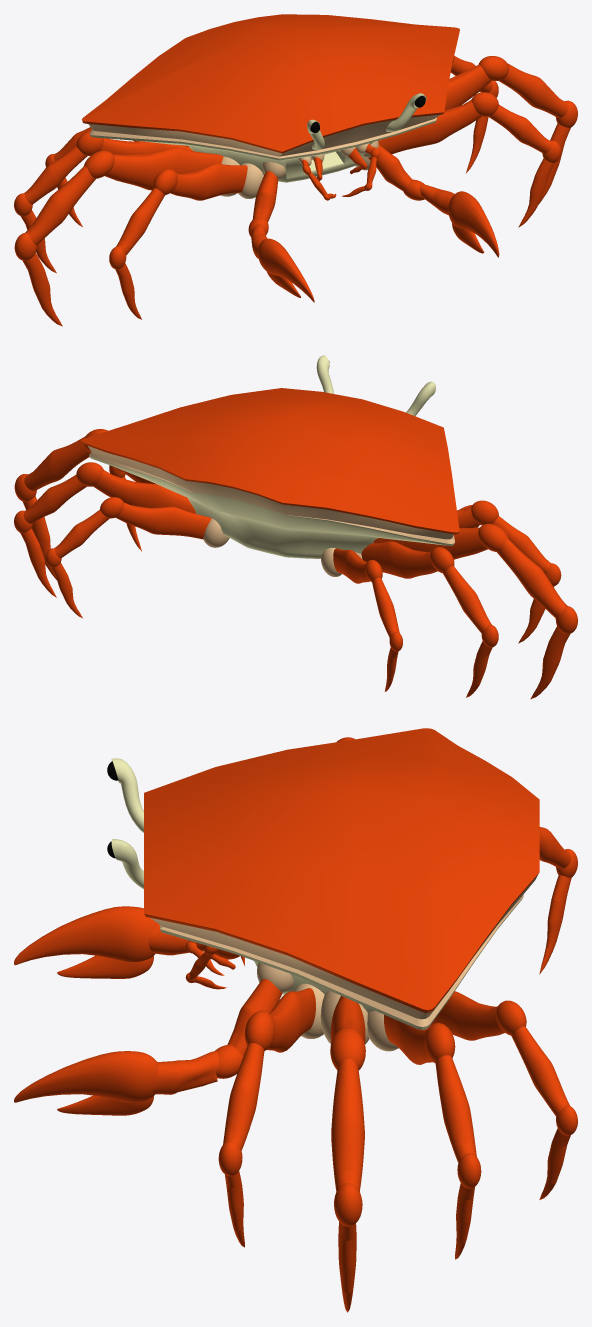
File: uploads_files_4834377_Crab.fbx
3 renders of one model, top to bottom at view 1: azimuth 30°, elevation 25°; view 2: azimuth 150°, elevation 25°; view 3: azimuth 270°, elevation 25°, orthographic. The views are drawn at different scales.
Visible parts, largest first — view 1: Plane, Cylinder, Cylinder.003, Cylinder.015, Cylinder.001, Cylinder.013, Sphere.028, Sphere.044, Cylinder.007, Cylinder.016, Cylinder.004, Cylinder.012 (+18 smaller); view 2: Plane, Cylinder.021, Cylinder.018, Cylinder.001, Cylinder.006, Cylinder.013, Cylinder, Cylinder.019, Cylinder.007, Cylinder.002, Cylinder.022, Cylinder.004 (+13 smaller); view 3: Plane, Sphere.044, Sphere.028, Cylinder.013, Cylinder.019, Cylinder.016, Cylinder.021, Cylinder.015, Cylinder.022, Cylinder.027, Sphere.045, Cylinder.026 (+18 smaller).
Boxes of the visible parts, x1=… form: Plane: x1=82, y1=14, x2=459, y2=182; Cylinder: x1=105, y1=147, x2=223, y2=190; Cylinder.003: x1=170, y1=163, x2=247, y2=200; Cylinder.015: x1=378, y1=100, x2=481, y2=154; Cylinder.001: x1=25, y1=166, x2=95, y2=245; Cylinder.013: x1=498, y1=63, x2=568, y2=117; Sphere.028: x1=448, y1=191, x2=499, y2=257; Sphere.044: x1=258, y1=238, x2=314, y2=302; Cylinder.007: x1=24, y1=146, x2=87, y2=204; Cylinder.016: x1=488, y1=104, x2=551, y2=153; Cylinder.004: x1=116, y1=188, x2=164, y2=255; Cylinder.012: x1=444, y1=64, x2=491, y2=110; Plane: x1=81, y1=388, x2=459, y2=558; Cylinder.021: x1=116, y1=502, x2=211, y2=539; Cylinder.018: x1=93, y1=470, x2=195, y2=513; Cylinder.001: x1=497, y1=539, x2=567, y2=618; Cylinder.006: x1=361, y1=541, x2=437, y2=578; Cylinder.013: x1=24, y1=436, x2=89, y2=490; Cylinder: x1=373, y1=527, x2=487, y2=559; Cylinder.019: x1=23, y1=475, x2=86, y2=523; Cylinder.007: x1=443, y1=566, x2=491, y2=633; Cylinder.002: x1=530, y1=626, x2=570, y2=699; Cylinder.022: x1=54, y1=510, x2=109, y2=558; Cylinder.004: x1=492, y1=516, x2=550, y2=573; Plane: x1=144, y1=728, x2=539, y2=1029; Sphere.044: x1=14, y1=906, x2=157, y2=965; Sphere.028: x1=14, y1=1051, x2=158, y2=1102; Cylinder.013: x1=331, y1=1059, x2=364, y2=1191; Cylinder.019: x1=435, y1=1055, x2=476, y2=1162; Cylinder.016: x1=223, y1=1043, x2=264, y2=1150; Cylinder.021: x1=430, y1=991, x2=504, y2=1040; Cylinder.015: x1=267, y1=988, x2=315, y2=1052; Cylinder.022: x1=511, y1=1026, x2=569, y2=1116; Cylinder.027: x1=153, y1=1051, x2=218, y2=1094; Sphere.045: x1=57, y1=955, x2=153, y2=978; Cylinder.026: x1=227, y1=979, x2=282, y2=1055.
Size of the model in its own units: 781 by 301 by 444.
